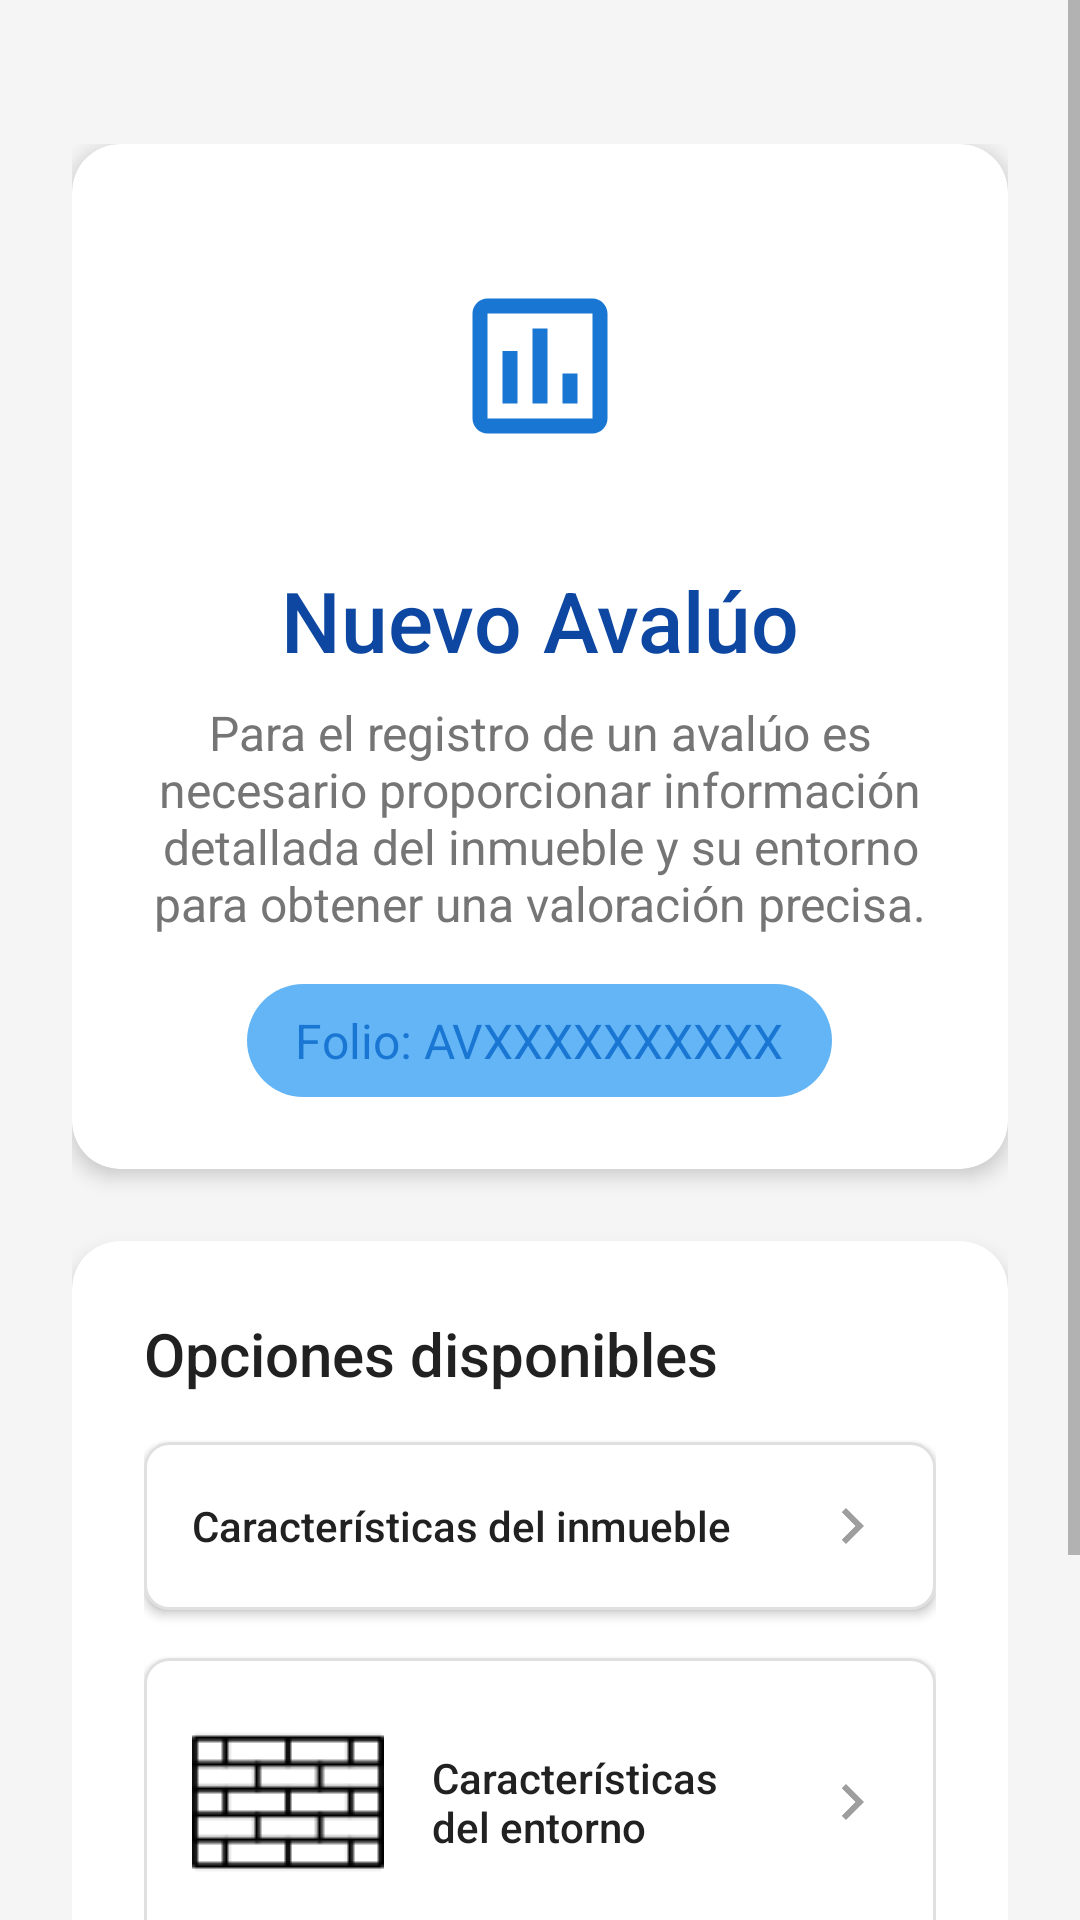

Named icons in this screenshot (1080px x 1920px) and their bounding boxes, (x1, y1, x2, y2):
chart: (472, 298, 608, 434)
